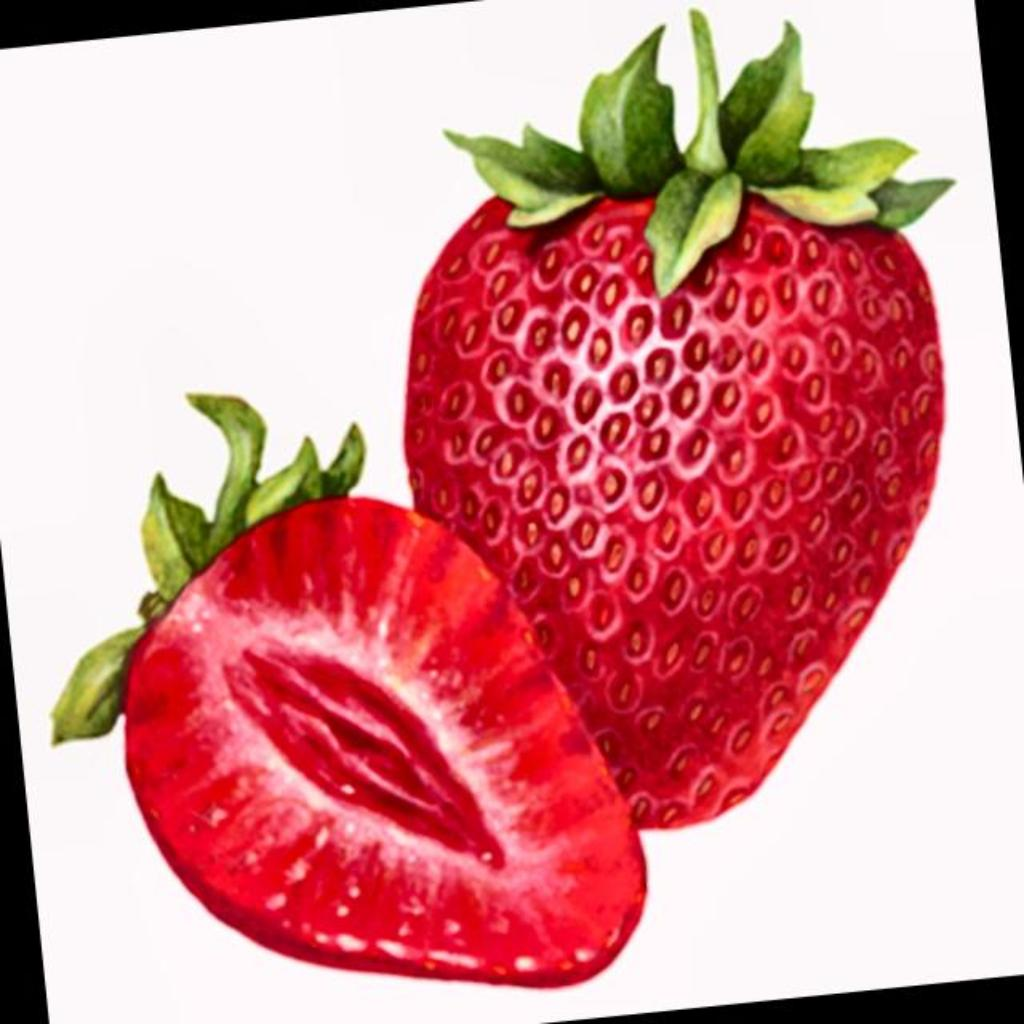strawberry: (404, 12, 950, 827), (52, 396, 644, 986)
